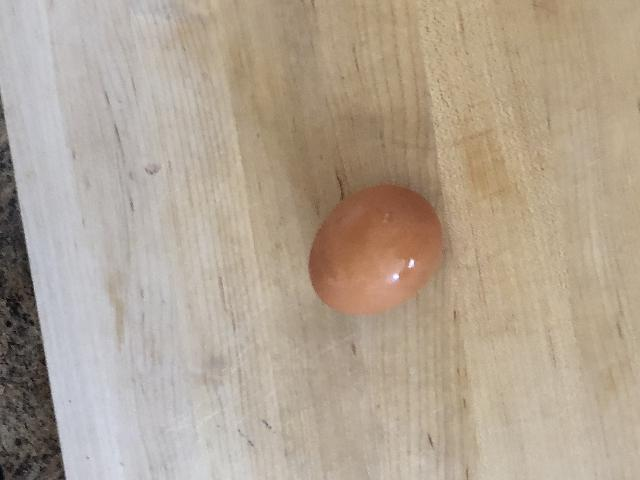Roto: (307, 183, 444, 316)
